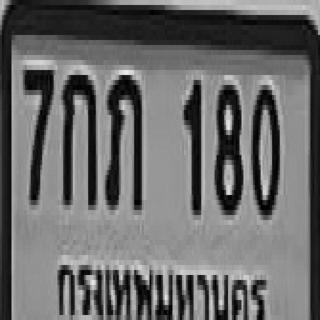A01: (61, 70, 94, 205)
A32: (104, 70, 140, 205)
N00: (251, 80, 278, 215)
N01: (182, 75, 199, 210)
N07: (21, 65, 52, 200)
N08: (213, 80, 241, 210)
P04: (56, 250, 266, 320)
